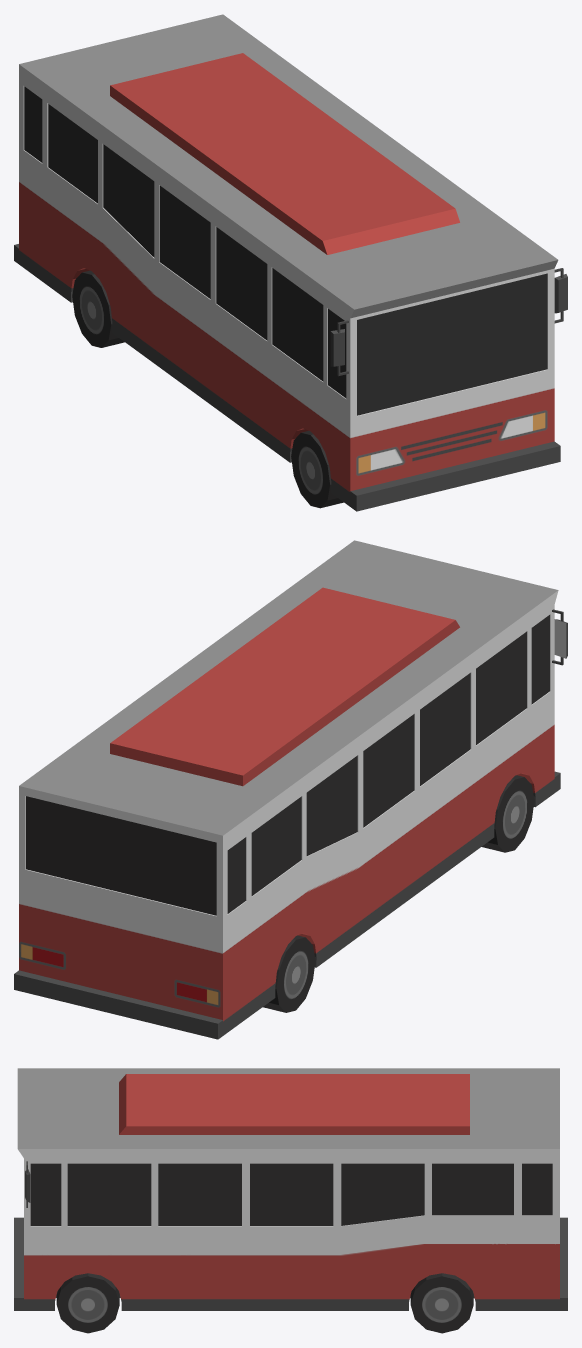
File: vehicle-bus-color03.glb
The picture shows the model from 3 angles, top to bottom: view 1: azimuth 30°, elevation 25°; view 2: azimuth 150°, elevation 25°; view 3: azimuth 270°, elevation 25°; orthographic projection. The views are drawn at different scales.
Visible parts, largest first — view 1: model; view 2: model; view 3: model.
Part boxes in pixels (<box>): model: <box>14,14,567,511</box>; model: <box>14,540,567,1039</box>; model: <box>14,1068,567,1333</box>.
Size of the model in its own units: 3.69 by 3.58 by 9.3.
1 material, 1 textured.
